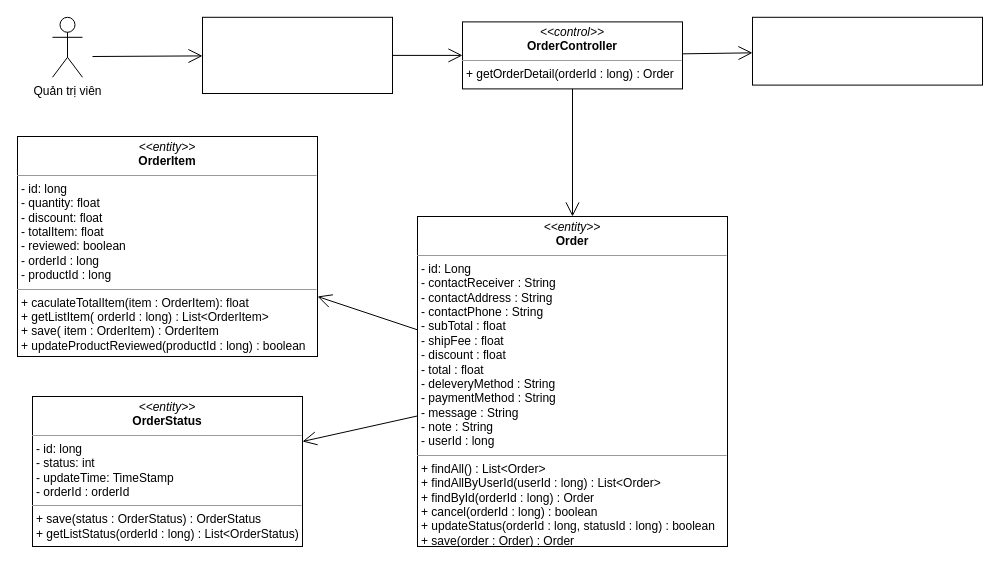
This 1000x565 diagram has some shape labels left out. The centre of each missing label's shape, as x and y in pixels:
"<<boundary>> ManagerOrderDetailView + displayOrderDetail(order : Order) : void" goes at pixel 867 50.
"<<boundary>> ManagerOrdersView + viewOrderDetail(orderId) : void" goes at pixel 297 55.
